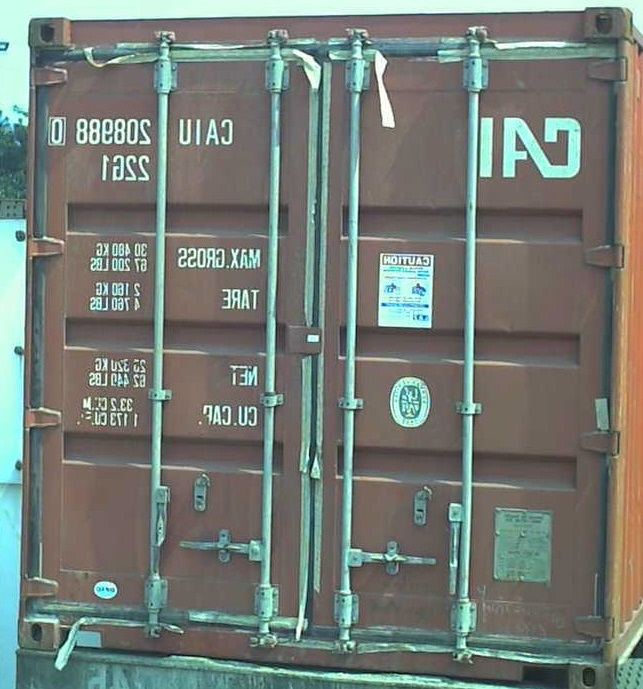container_door: (26, 6, 627, 672)
